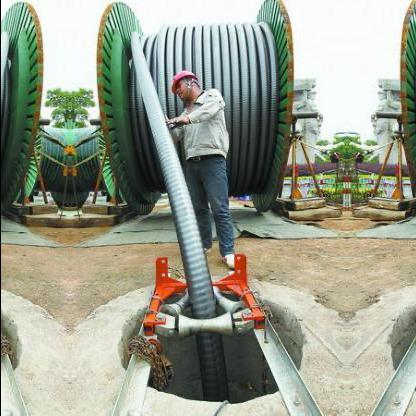Helmet: (164, 64, 200, 102)
